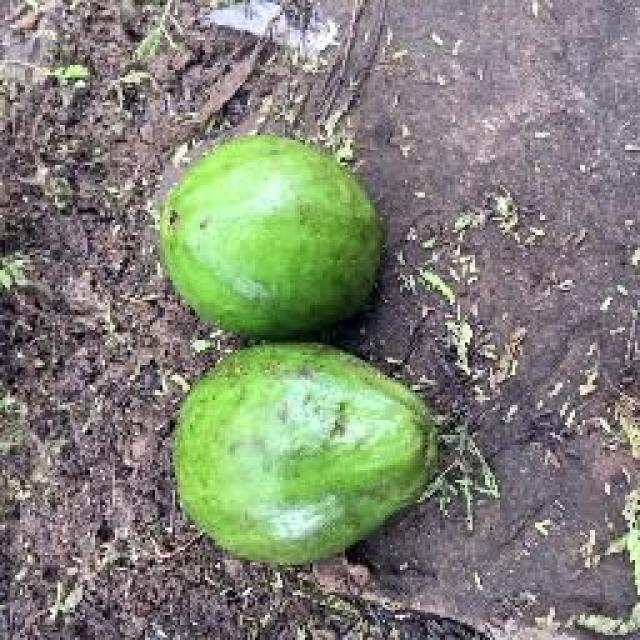Good_Guava: (172, 342, 438, 568), (155, 135, 388, 348)
